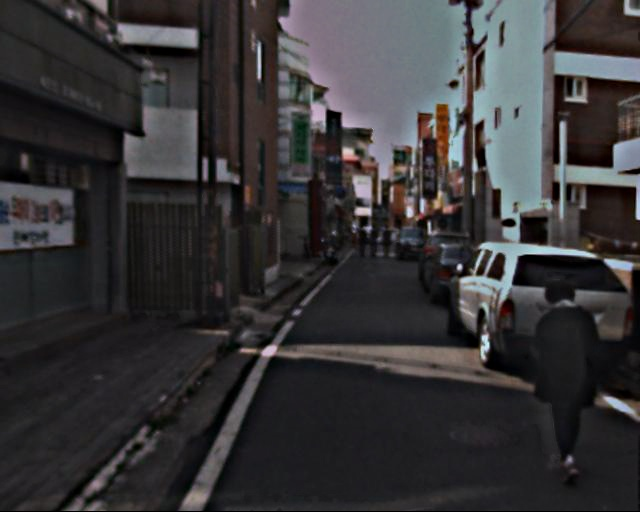person: (515, 276, 606, 486), (359, 223, 396, 263)
